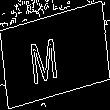M_N: (39, 26, 71, 84)
